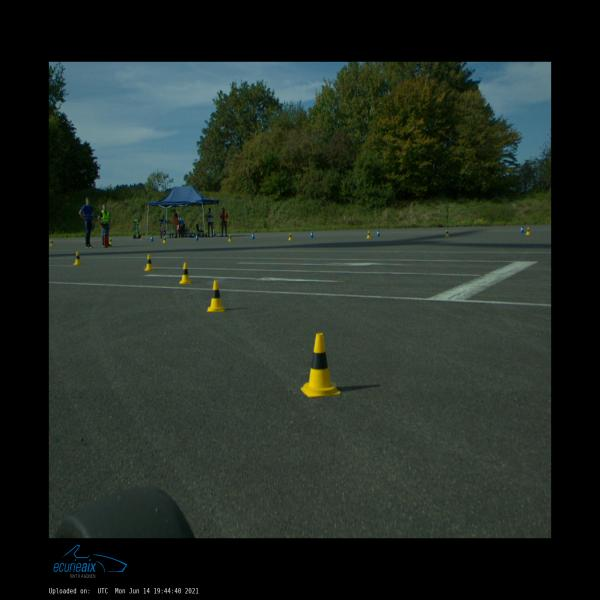blue_cone: (376, 229, 380, 236), (310, 231, 314, 238), (520, 226, 524, 232), (251, 233, 255, 239), (195, 234, 199, 240), (150, 235, 154, 241)
yellow_cone: (300, 333, 340, 397), (208, 280, 226, 312), (179, 262, 192, 284), (145, 254, 154, 271), (74, 252, 81, 264), (162, 236, 167, 243), (526, 227, 530, 235), (228, 234, 232, 242), (445, 229, 449, 236), (366, 231, 370, 238), (288, 233, 292, 240), (109, 238, 112, 245), (50, 239, 53, 246)
